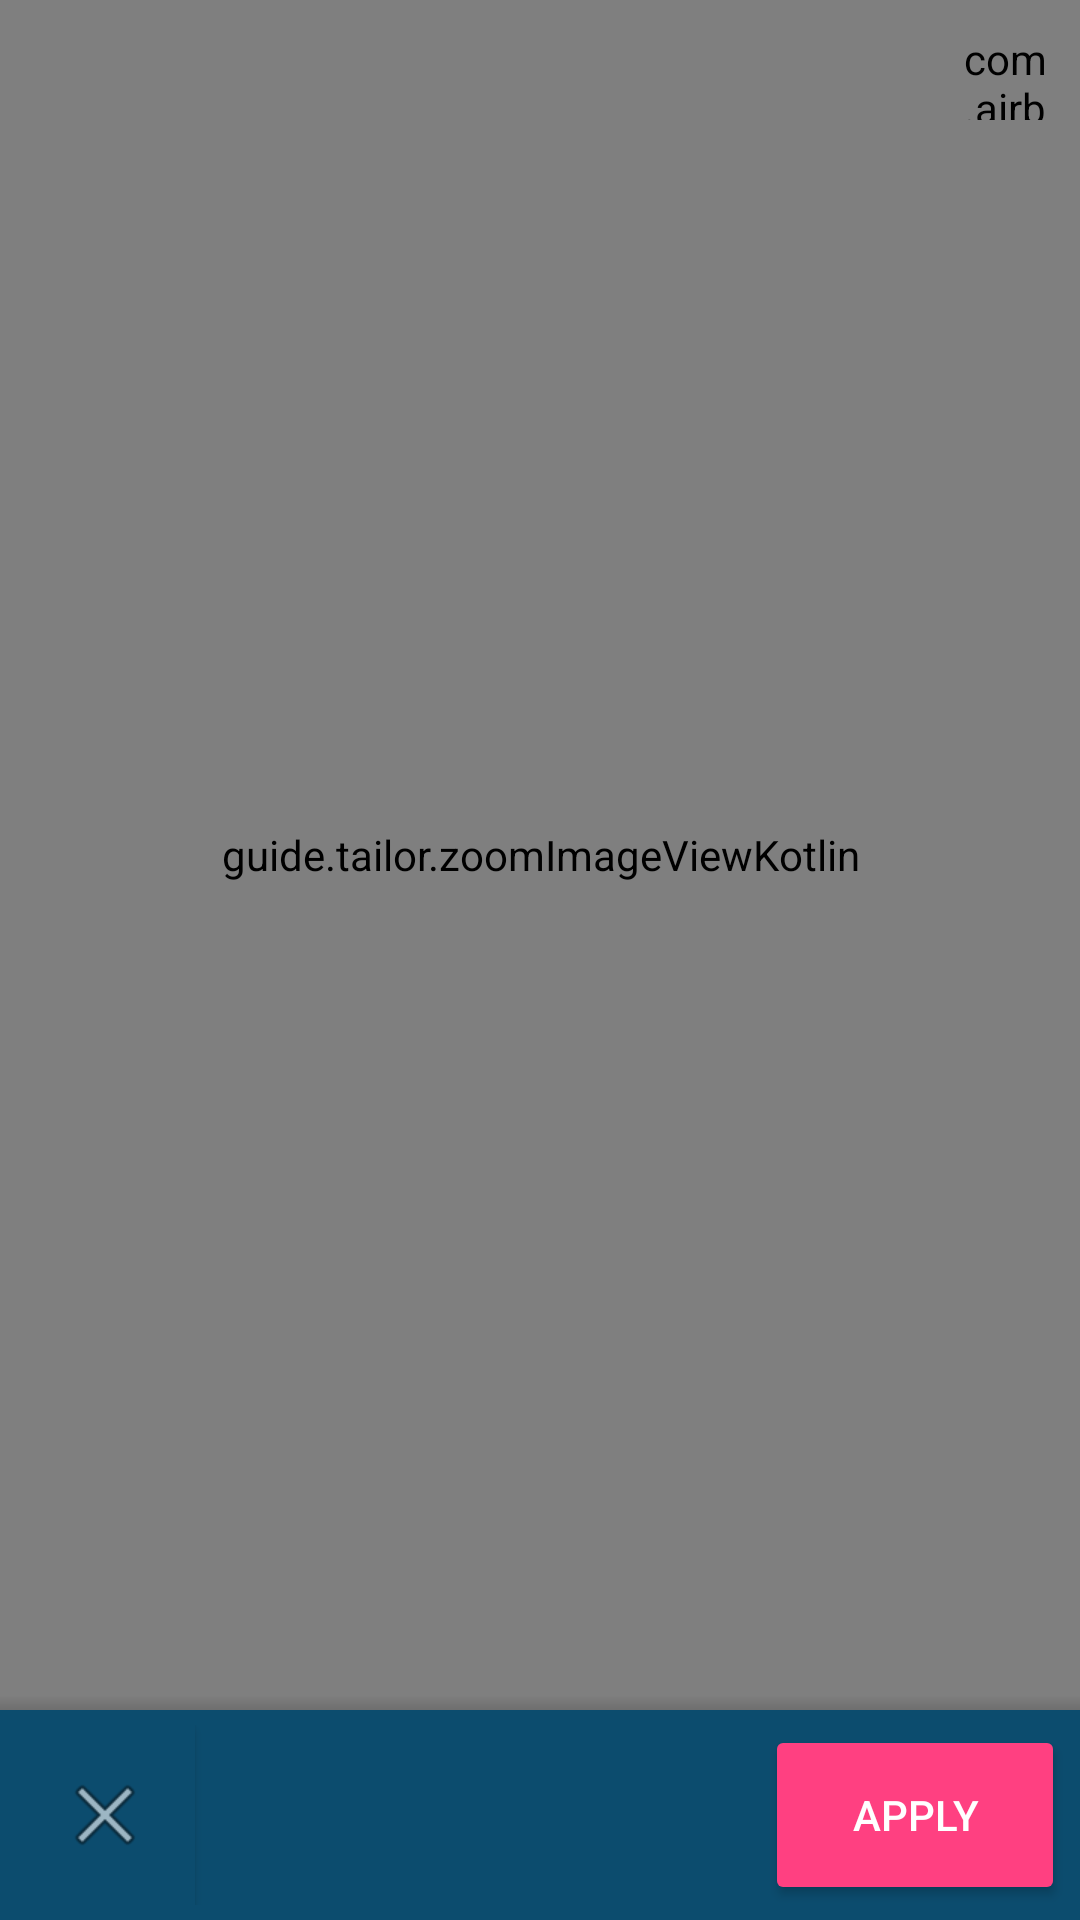

Icon click points for this 1080w x 1920h phone screenshot, format (x,y):
close clear cancel: (105,1815)
